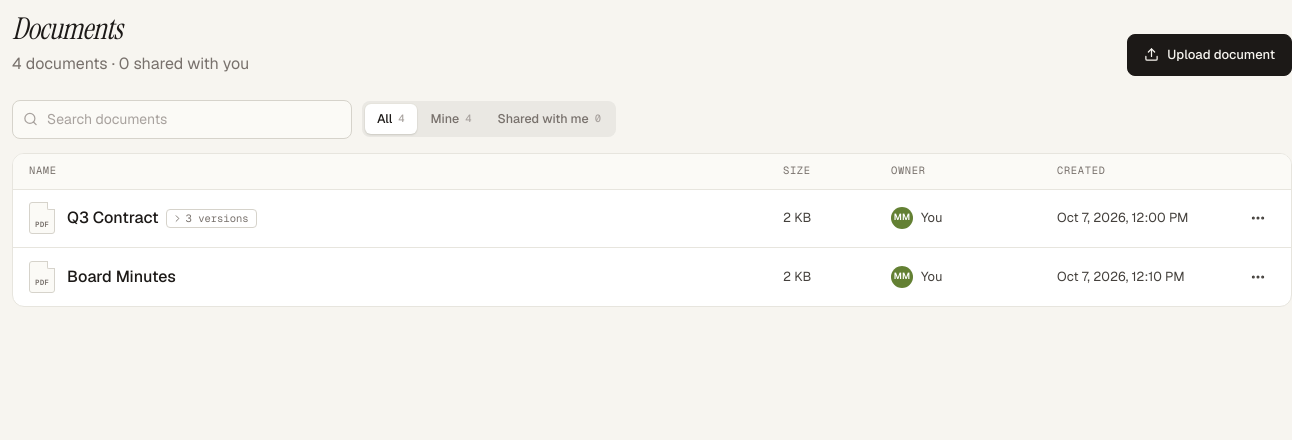
it: Grouping processed copies with their original › folds copies under their original until asked to show them
Check: the link "Q3 Contract" is shown, box left=67, top=207, right=158, bottom=228
Check: the text "Q3 Contract (compressed)" is not shown
Click the button "3 versions" at (211, 218), box left=166, top=209, right=256, bottom=228
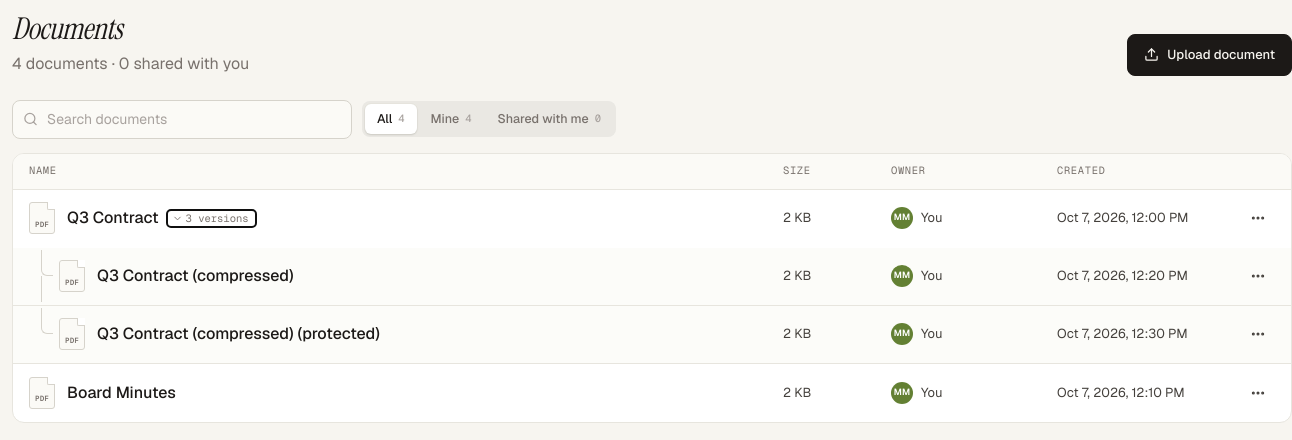
Check: the link "Q3 Contract (compressed)" is shown, box left=97, top=265, right=294, bottom=286
Check: the link "Q3 Contract (compressed) (protected)" is shown, box left=97, top=323, right=380, bottom=344
